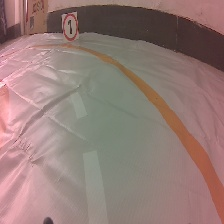limit: (60, 12, 80, 44)
